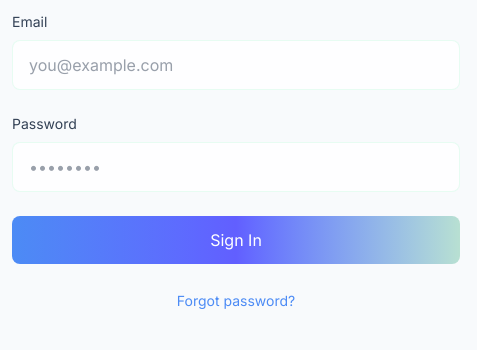
Test: LoginForm › validates password length
Type "test@example.com" into the field labelled "Email" at (236, 65), box [12, 40, 460, 90]
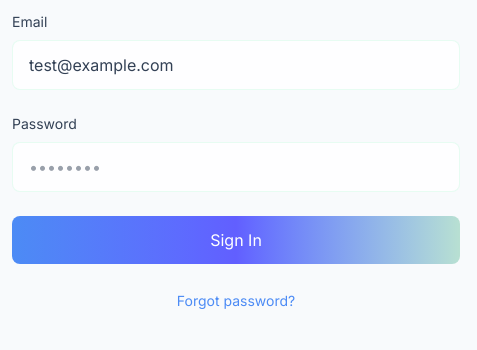
Type "short" into the password field labelled "Password" at (236, 167), box [12, 142, 460, 192]
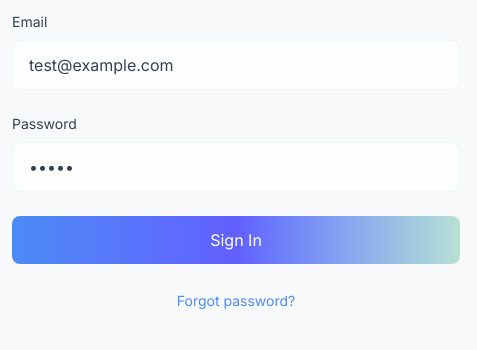
Click the button "Sign In" at (236, 240), box [12, 216, 460, 264]
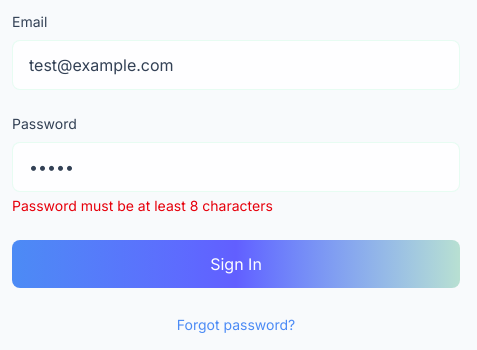
Check: the text "Password must be at least 8 characters" is shown, box [12, 197, 273, 214]
